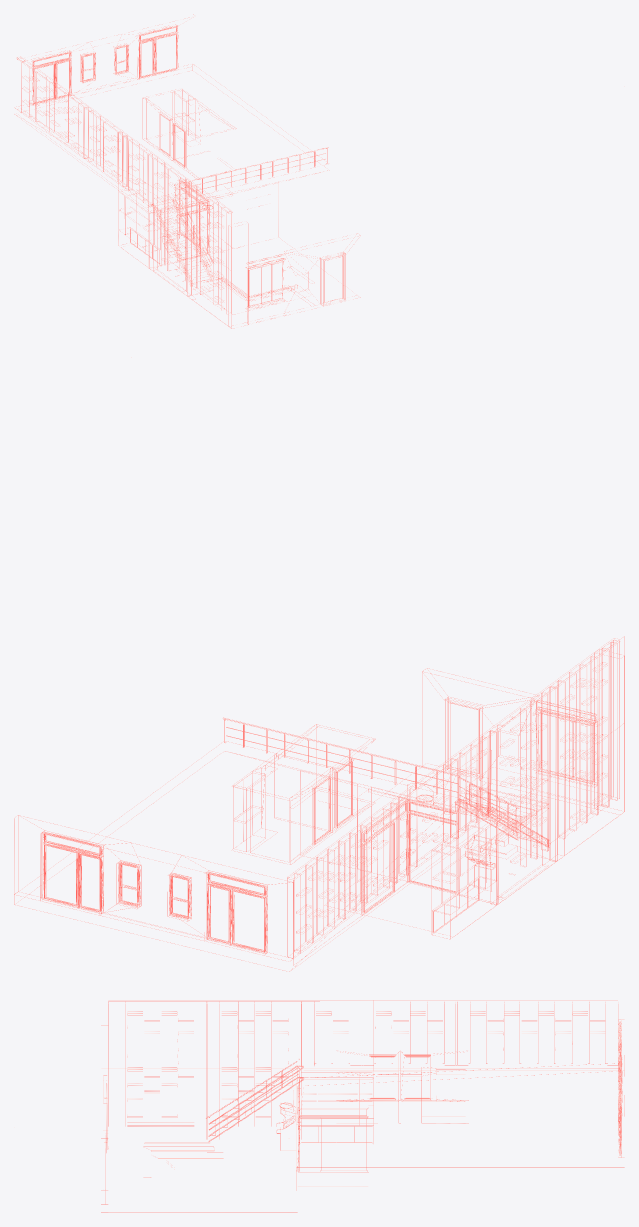
Rendered from map-blueprint.glb.
3 views of the same model, one above another, from view 1: azimuth 30°, elevation 25°; view 2: azimuth 150°, elevation 25°; view 3: azimuth 270°, elevation 25° (orthographic). The views are drawn at different scales.
Visible parts, largest first — view 1: WireFrame_Bake; view 2: WireFrame_Bake; view 3: WireFrame_Bake.
Boxes of the visible parts, x1,y1,x2,y2 form: WireFrame_Bake: (14,14,360,328); WireFrame_Bake: (14,357,624,971); WireFrame_Bake: (101,1000,624,1212).
Bounding box in the file's own units: 22.5 × 10.97 × 27.75.
